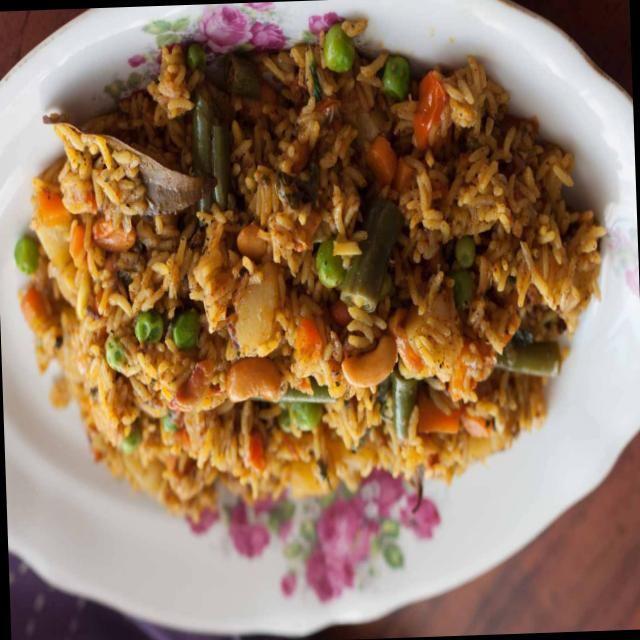Biryani: (6, 10, 616, 528)
